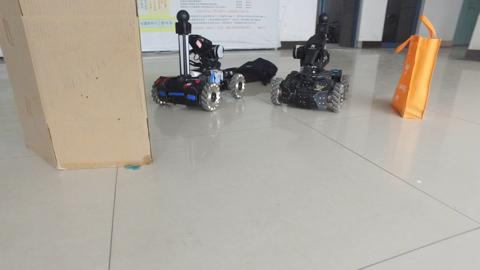bag: (395, 14, 434, 119)
chariot: (149, 12, 246, 108), (269, 12, 348, 113)
